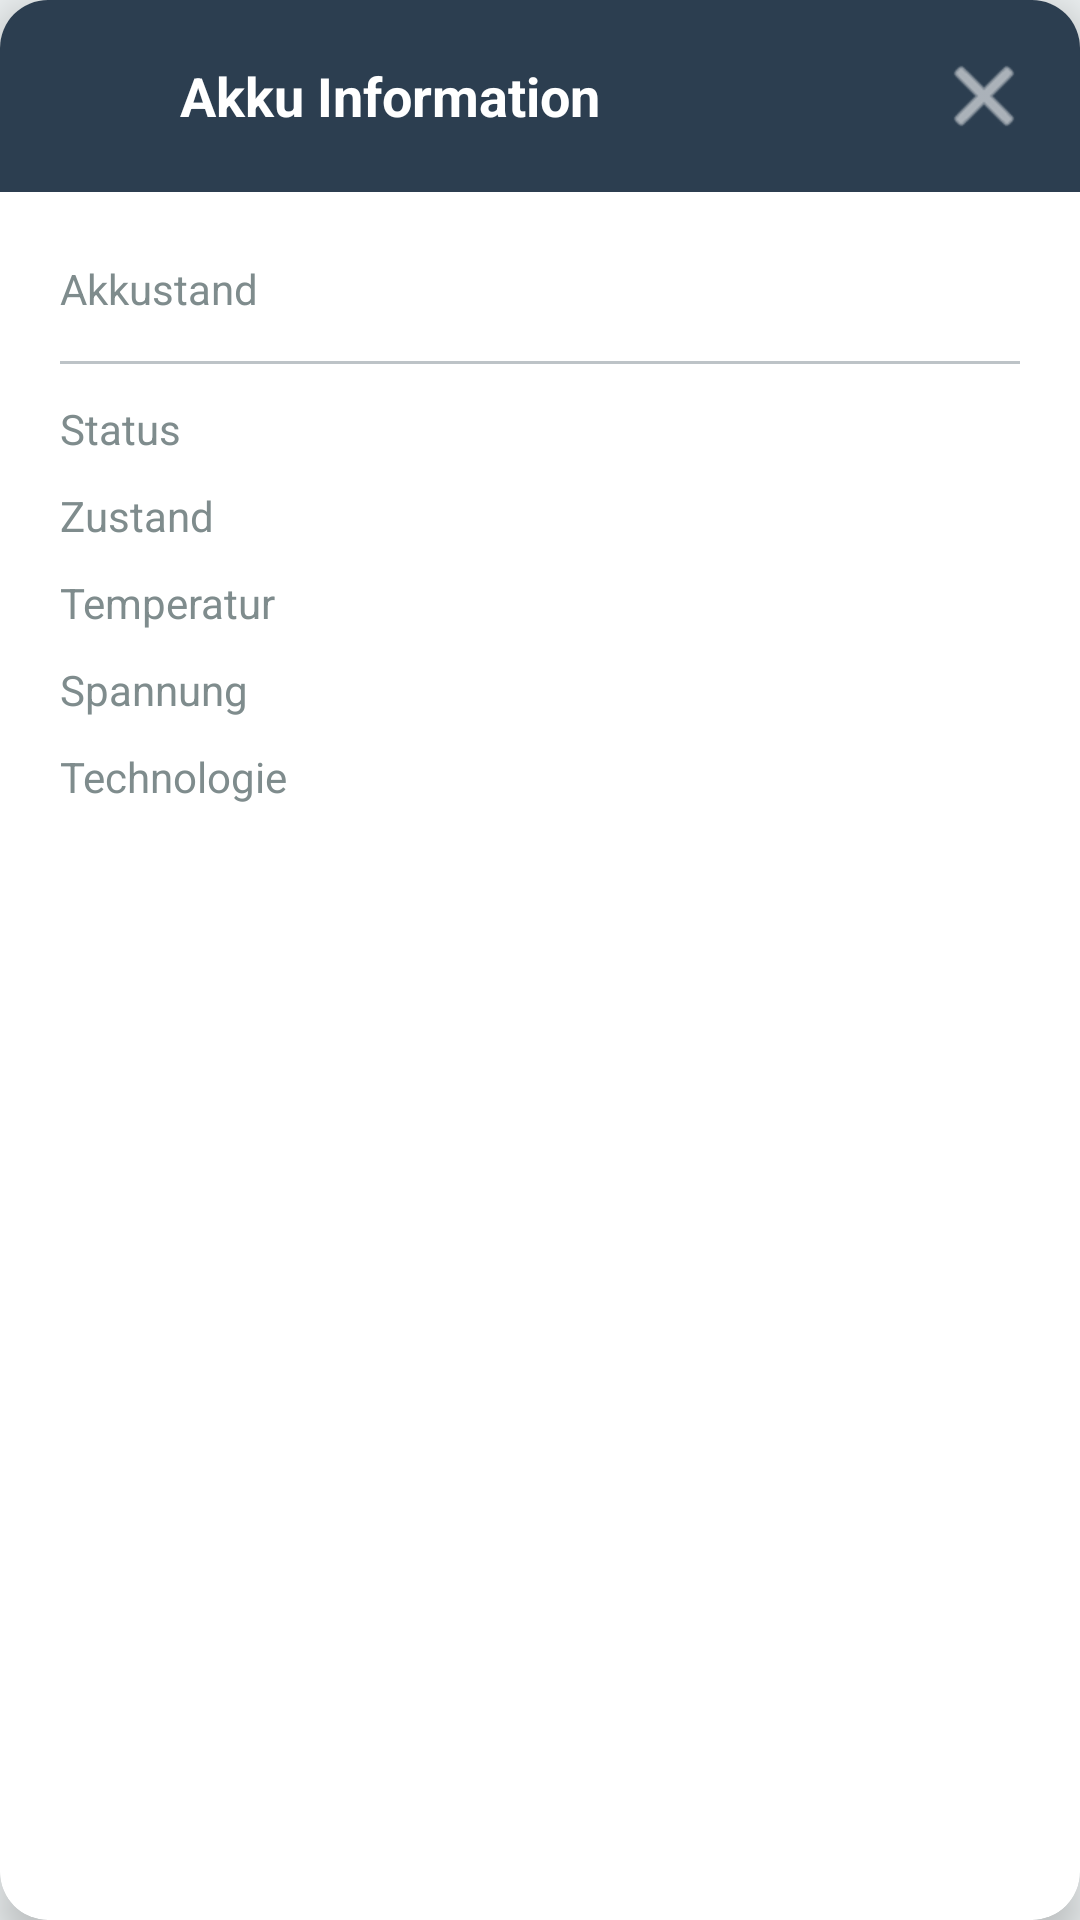

Named icons in this screenshot (1080x1920) and their bounding boxes, (x1, y1, x2, y2):
Close: (954, 66, 1014, 126)
